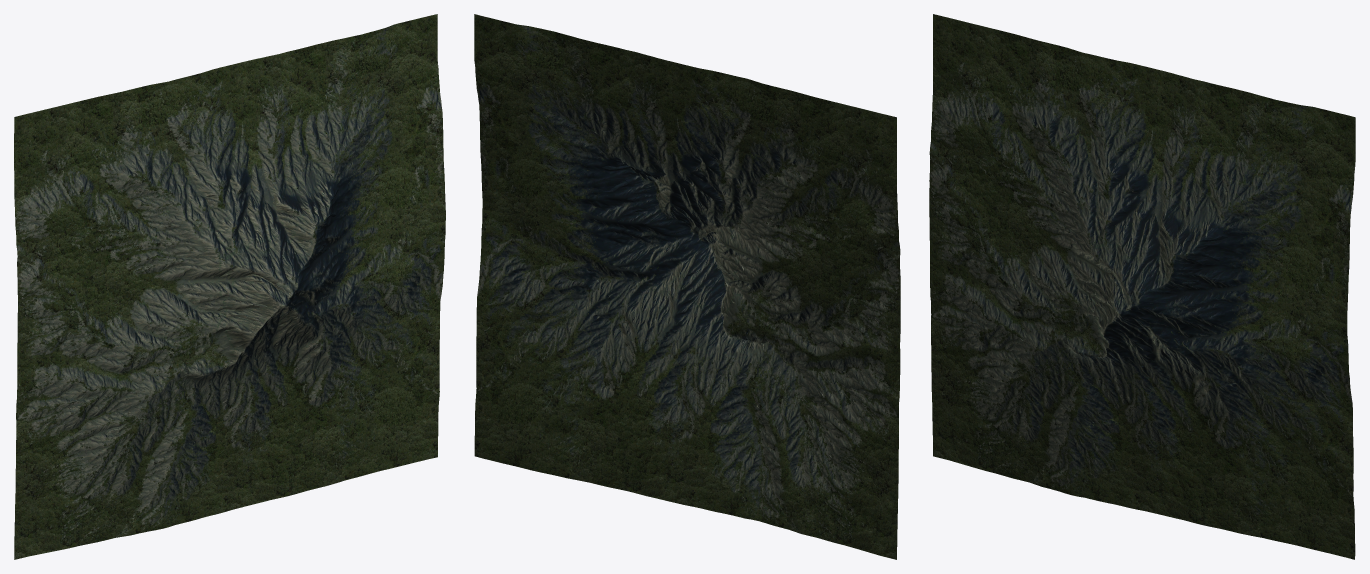
3 views of the same model, side by side, from view 1: azimuth 30°, elevation 25°; view 2: azimuth 150°, elevation 25°; view 3: azimuth 330°, elevation 25° (orthographic).
Visible parts, largest first — view 1: mount_a_0; view 2: mount_a_0; view 3: mount_a_0.
Part boxes in pixels (x1,y1,x2,y2): mount_a_0: (14, 14, 445, 559); mount_a_0: (474, 14, 900, 559); mount_a_0: (929, 14, 1355, 559).
Bounding box in the file's own units: 402406 × 402406 × 69845.
Materials: 1 (1 with a texture image).
